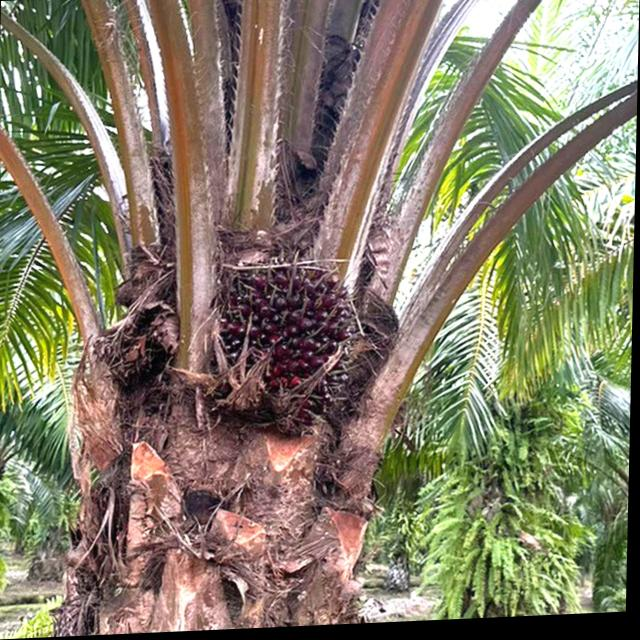ripe: (185, 233, 370, 449)
